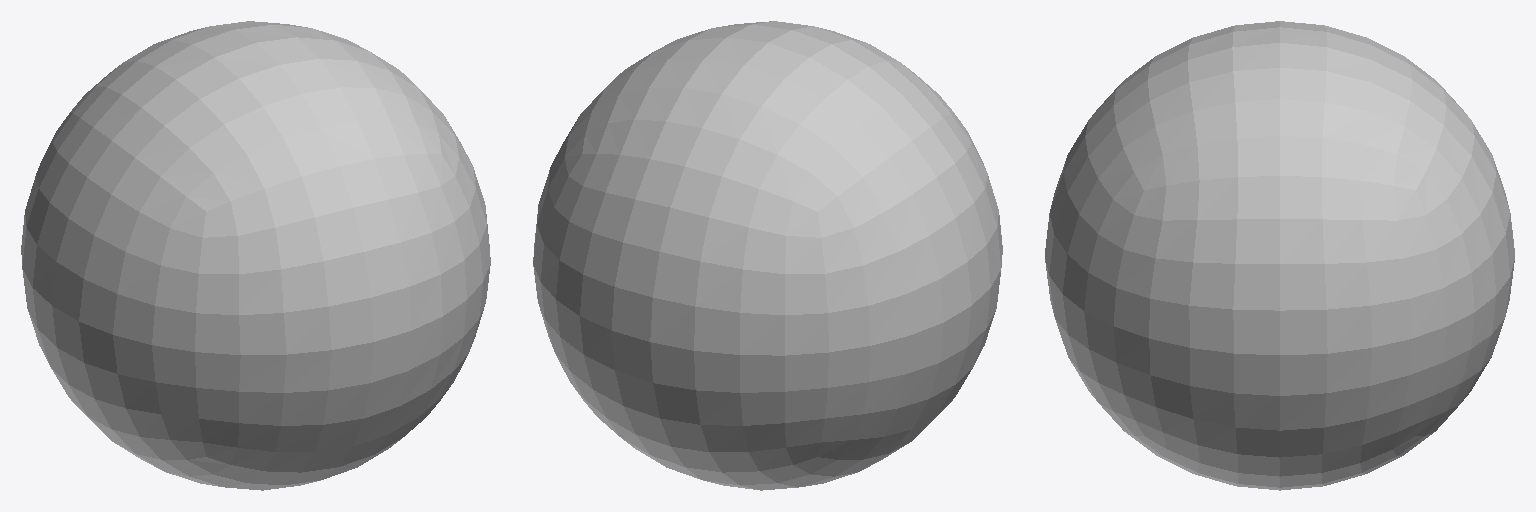
Rendered from SphereEAC.obj.
The picture shows the model from 3 angles: view 1: azimuth 30°, elevation 25°; view 2: azimuth 150°, elevation 25°; view 3: azimuth 270°, elevation 25°; orthographic projection.
Parts seen in each view (by area): view 1: VideoSphereEAC_Scene; view 2: VideoSphereEAC_Scene; view 3: VideoSphereEAC_Scene.
Boxes of the visible parts, x1=… form: VideoSphereEAC_Scene: x1=21, y1=21, x2=490, y2=490; VideoSphereEAC_Scene: x1=533, y1=21, x2=1002, y2=490; VideoSphereEAC_Scene: x1=1045, y1=21, x2=1514, y2=490.
Size of the model in its own units: 1 by 1 by 1.